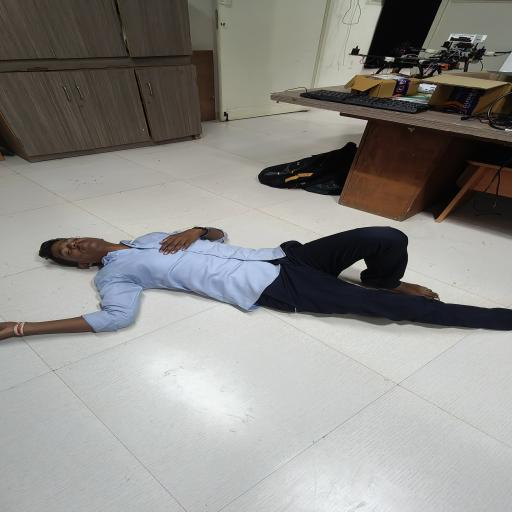survivor: (0, 226, 512, 341)
